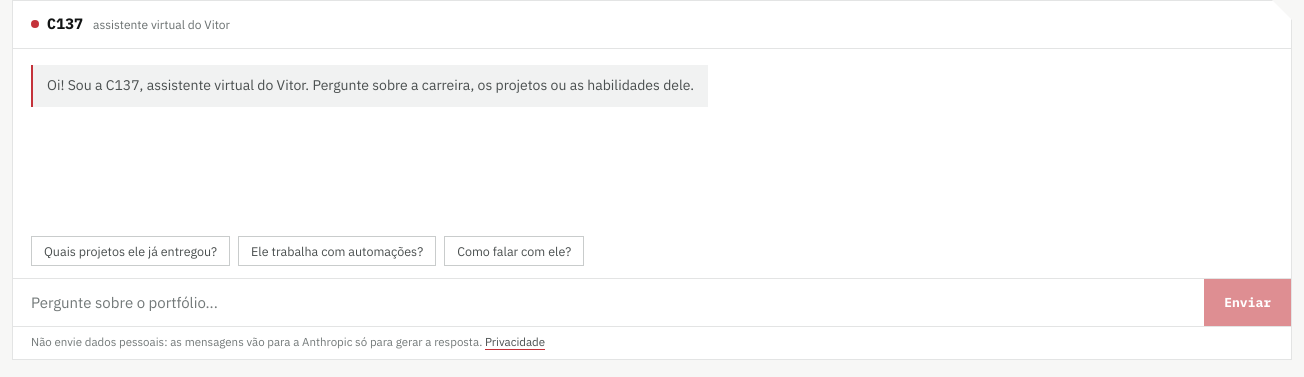
Scenario: C137 › sends the question with the conversation so far and shows the answer
In the field named "Sua pergunta para a C137": [609, 302] box [13, 279, 1204, 326], type "Quais projetos?"
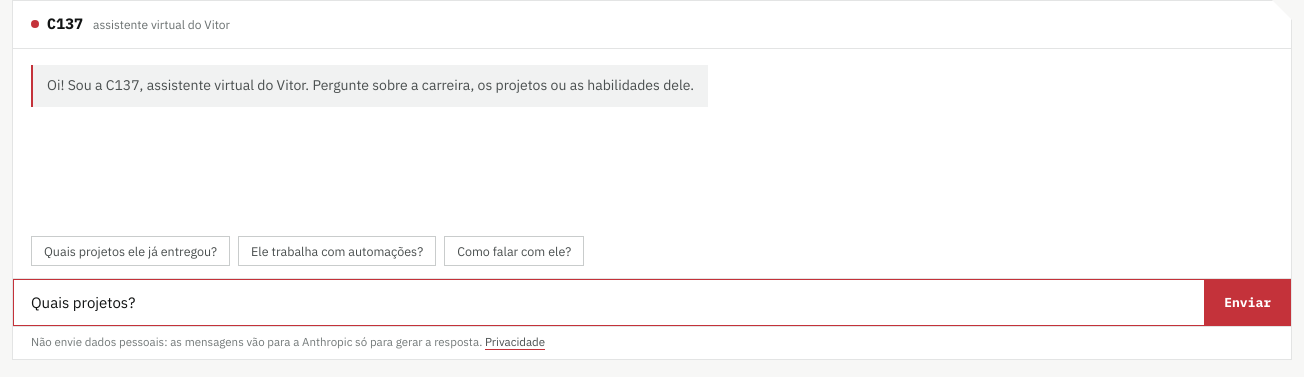
Click the button "Enviar": [1248, 302] box [1204, 279, 1291, 326]
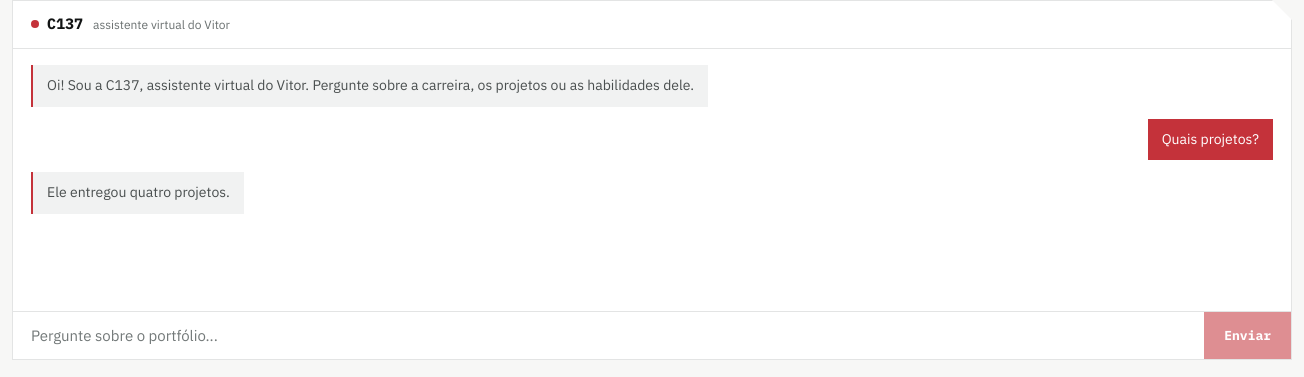
Now the text "Ele entregou quatro projetos." is shown, box [31, 172, 244, 214]
